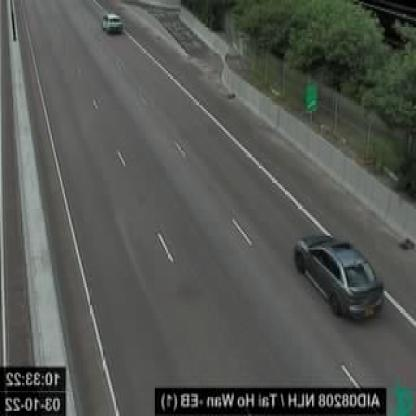Car: (297, 234, 382, 321), (104, 12, 126, 31)
